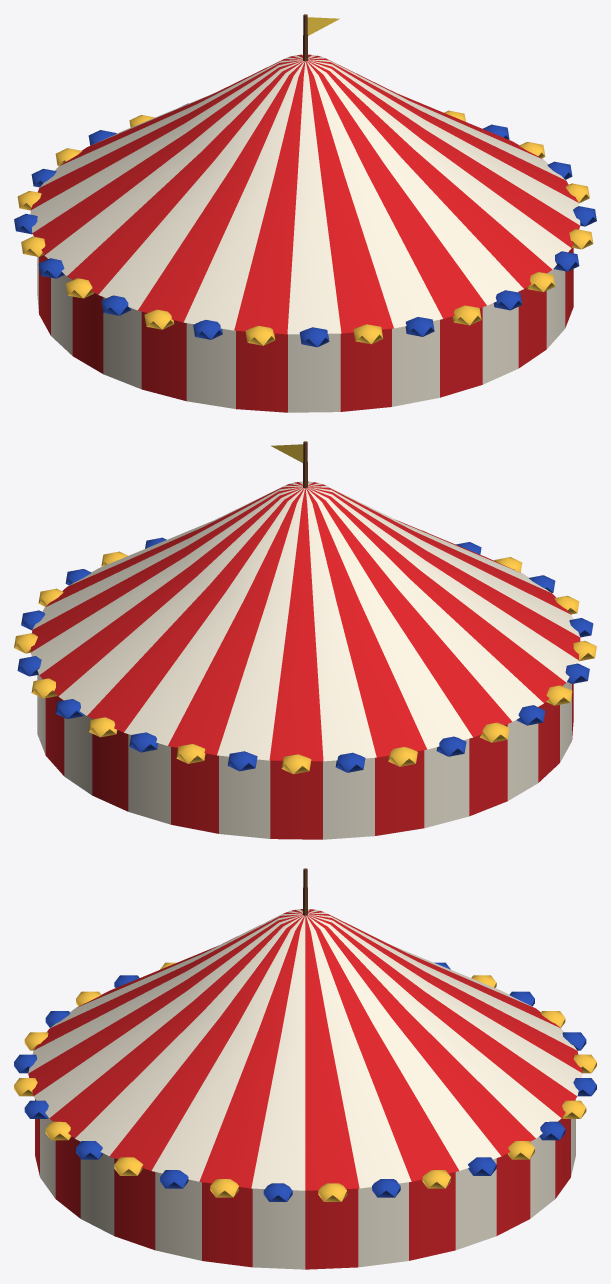
Rendered from BigTop.fbx.
3 views of the same model, one above another, from view 1: azimuth 30°, elevation 25°; view 2: azimuth 150°, elevation 25°; view 3: azimuth 270°, elevation 25° (orthographic).
Parts seen in each view (by area): view 1: BigTop; view 2: BigTop; view 3: BigTop.
Boxes of the visible parts, <box> form: BigTop: <box>14,14,596,412</box>; BigTop: <box>14,441,596,839</box>; BigTop: <box>14,868,596,1269</box>.
Bounding box in the file's own units: 25.92 × 14 × 25.86.
Materials: 1 (1 with a texture image).
